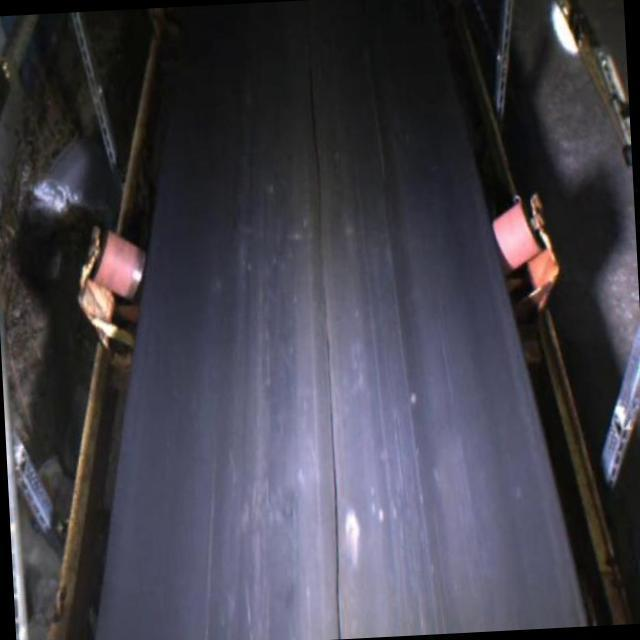Tear: (299, 59, 345, 640)
